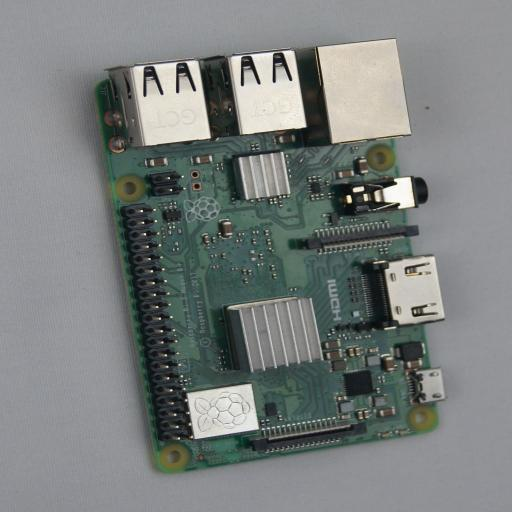Raspberry Pi 3 B-: (81, 38, 445, 474)
